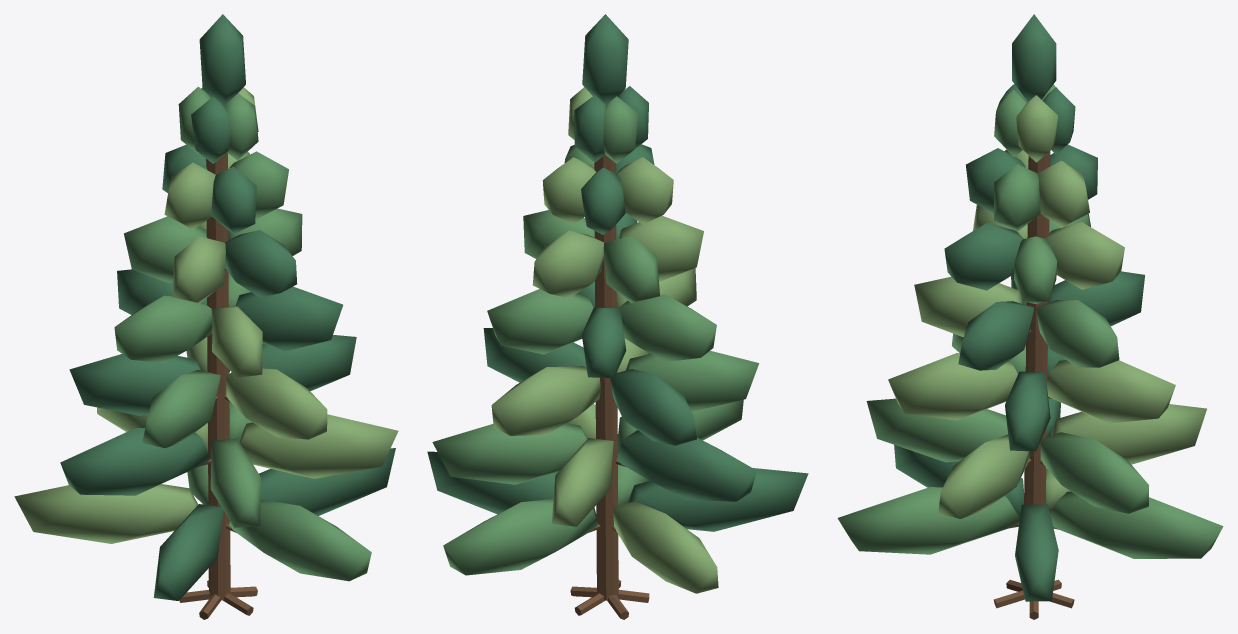
The model's file is pine_2.fbx.
The picture shows the model from 3 angles, left to right: view 1: azimuth 30°, elevation 25°; view 2: azimuth 150°, elevation 25°; view 3: azimuth 270°, elevation 25°; orthographic projection.
Visible parts, largest first — view 1: pine_2; view 2: pine_2; view 3: pine_2.
Boxes of the visible parts, x1=… form: pine_2: x1=14, y1=14, x2=398, y2=619; pine_2: x1=427, y1=14, x2=808, y2=619; pine_2: x1=837, y1=14, x2=1223, y2=619.
Bounding box in the file's own units: 623 × 1045 × 619.
